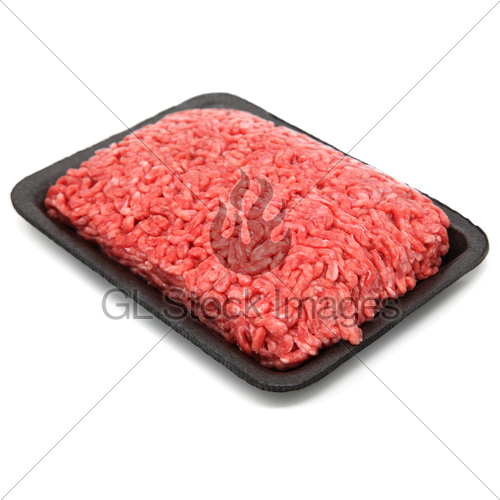ground_beef: (78, 85, 406, 339)
